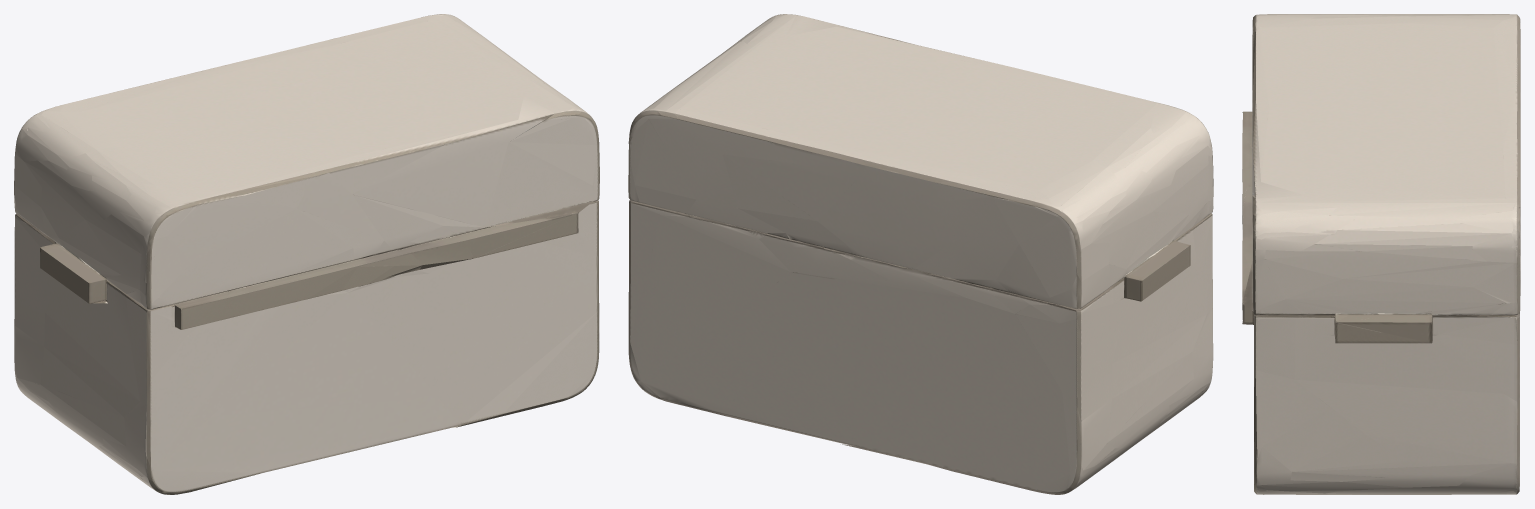
File: raw_storage_box.glb
3 renders of one model, left to right at view 1: azimuth 30°, elevation 25°; view 2: azimuth 150°, elevation 25°; view 3: azimuth 270°, elevation 25°, orthographic.
Bounding box in the file's own units: 1.9 × 1.08 × 0.9509.
Materials: 1 (1 with a texture image).
